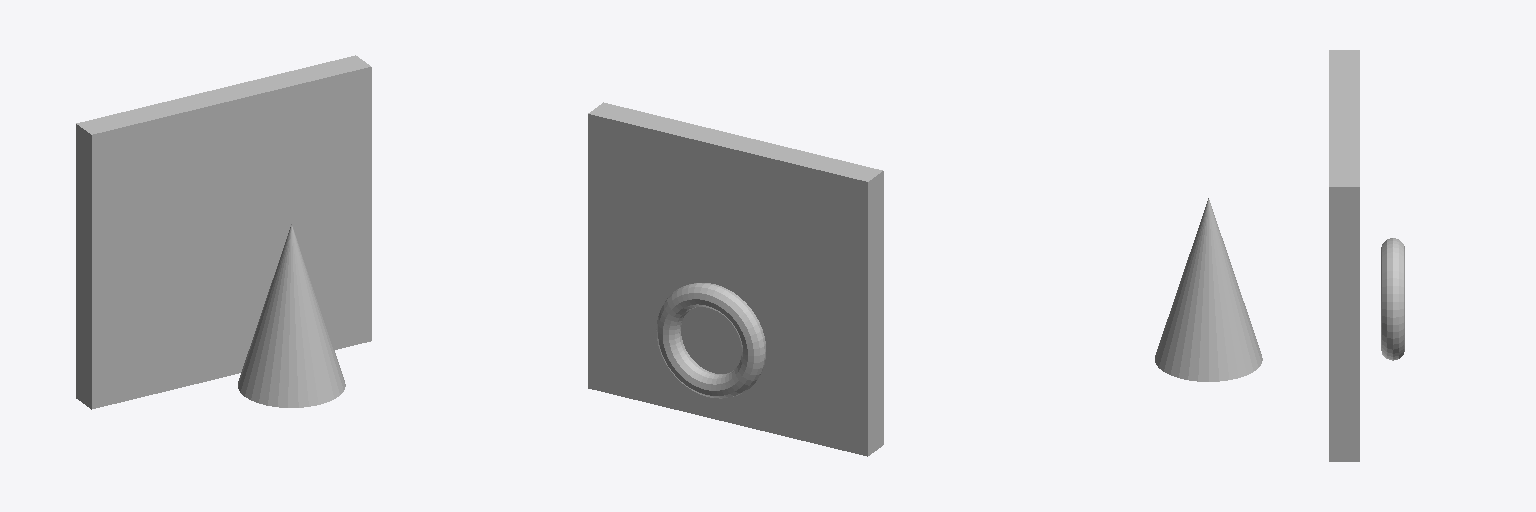
The model's file is torus_and_cone.obj.
3 views of the same model, side by side, from view 1: azimuth 30°, elevation 25°; view 2: azimuth 150°, elevation 25°; view 3: azimuth 270°, elevation 25° (orthographic).
Parts seen in each view (by area): view 1: Cube_Cube.001, Cone; view 2: Cube_Cube.001, Torus; view 3: Cube_Cube.001, Cone, Torus.
Boxes of the visible parts, box(x1,y1,x2,y2) form: Cube_Cube.001: box(76, 55, 371, 409); Cone: box(238, 224, 345, 407); Cube_Cube.001: box(588, 102, 883, 456); Torus: box(656, 283, 765, 398); Cube_Cube.001: box(1329, 50, 1359, 461); Cone: box(1155, 198, 1262, 381); Torus: box(1381, 238, 1404, 360).
Size of the model in its own units: 6.56 by 6.15 by 5.09.